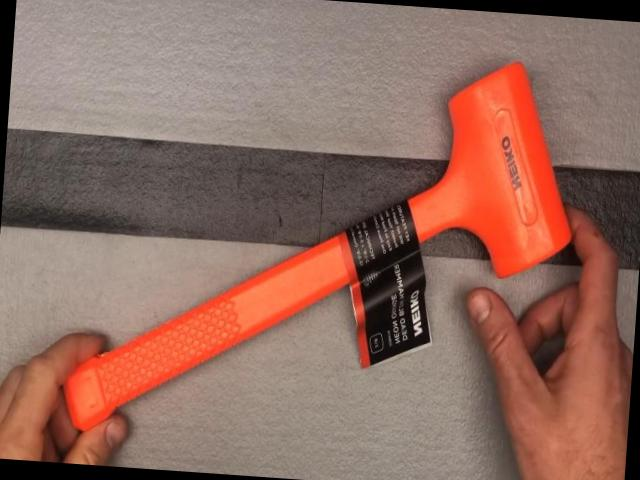hammer: (58, 30, 582, 463)
